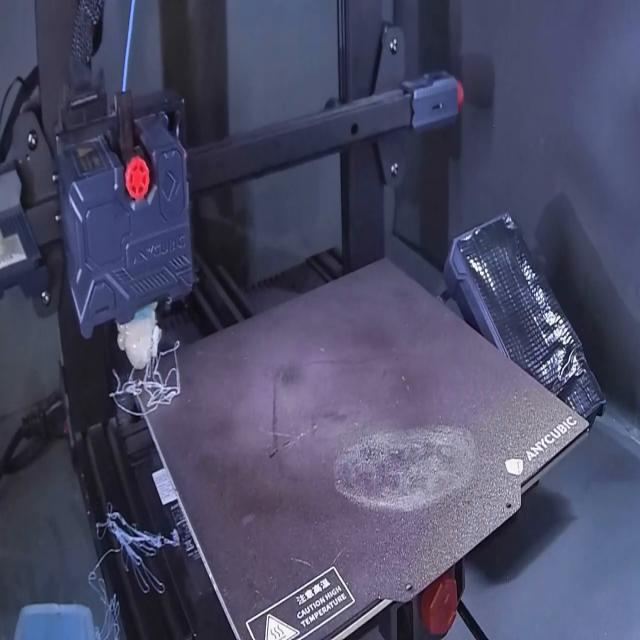spaghetti: (78, 498, 187, 640), (106, 347, 201, 438)
